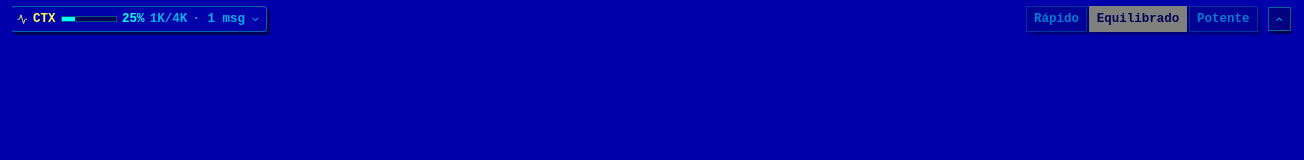
Scenario: ContextMeter › el desglose aparece al pulsar el indicador
Click the button "CTX 25% 1K/4K · 1 msg": (139, 19) top-left (11, 6), bottom-right (267, 32)
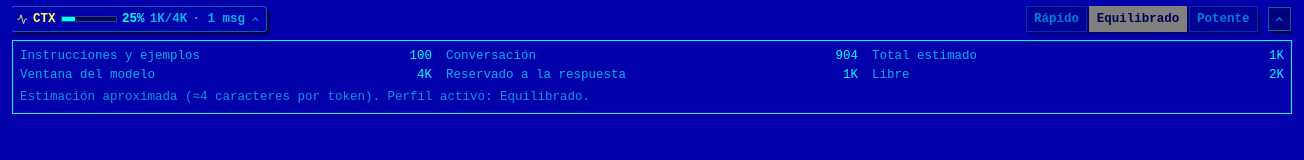
expect the element with test id "context-details" shows "Instrucciones y ejemplos": met, box top-left (20, 49), bottom-right (200, 63)
expect the element with test id "context-details" shows "Ventana del modelo": met, box top-left (20, 68), bottom-right (155, 82)
expect the element with test id "context-details" shows "Reservado a la respuesta": met, box top-left (446, 68), bottom-right (626, 82)
